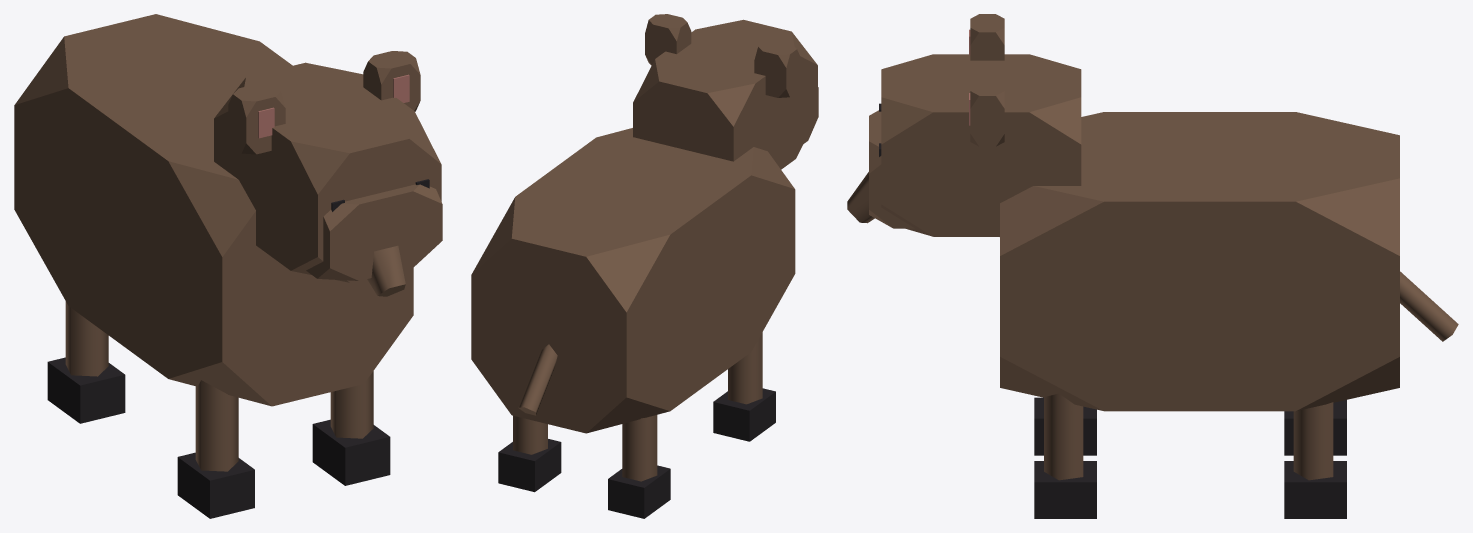
The model's file is original-tapir.glb.
3 renders of one model, left to right at view 1: azimuth 30°, elevation 25°; view 2: azimuth 150°, elevation 25°; view 3: azimuth 270°, elevation 25°, orthographic. The views are drawn at different scales.
Visible parts, largest first — view 1: tapir; view 2: tapir; view 3: tapir.
Boxes of the visible parts, left/top/right/bottom form: tapir: left=14, top=14, right=442, bottom=518; tapir: left=471, top=14, right=818, bottom=518; tapir: left=847, top=14, right=1458, bottom=518.
Size of the model in its own units: 0.68 by 1.49 by 1.96.
